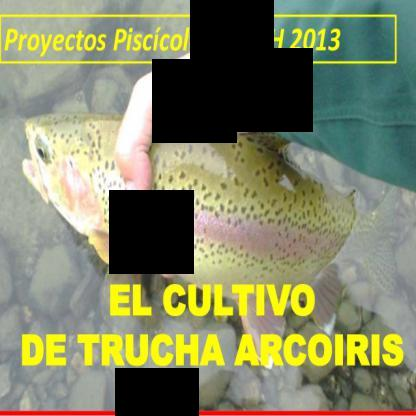fish: (19, 113, 410, 331)
